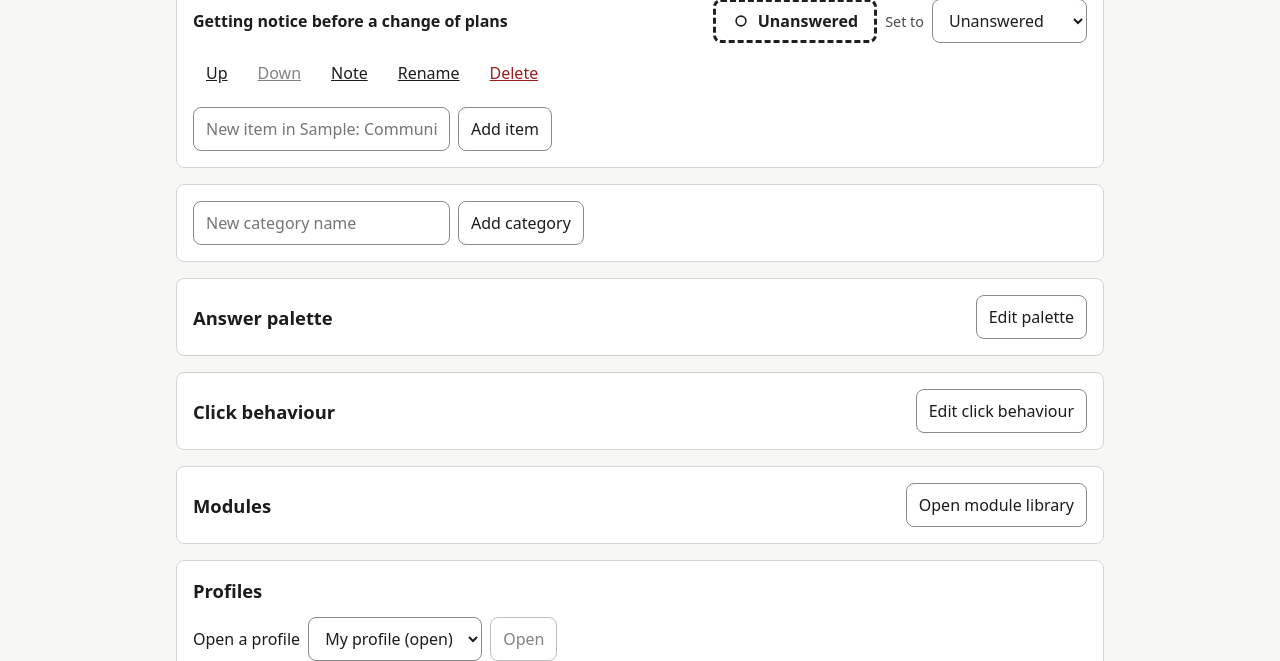
Scenario: contrast note in the state editor (M2-03) › warns in words as soon as the colours get too close, and updates as they change
The width and height of the screenshot is (1280, 661).
(page scrolled)
Click the button "Edit palette".
click(1031, 317)  # box [976,295,1087,339]
(page scrolled)
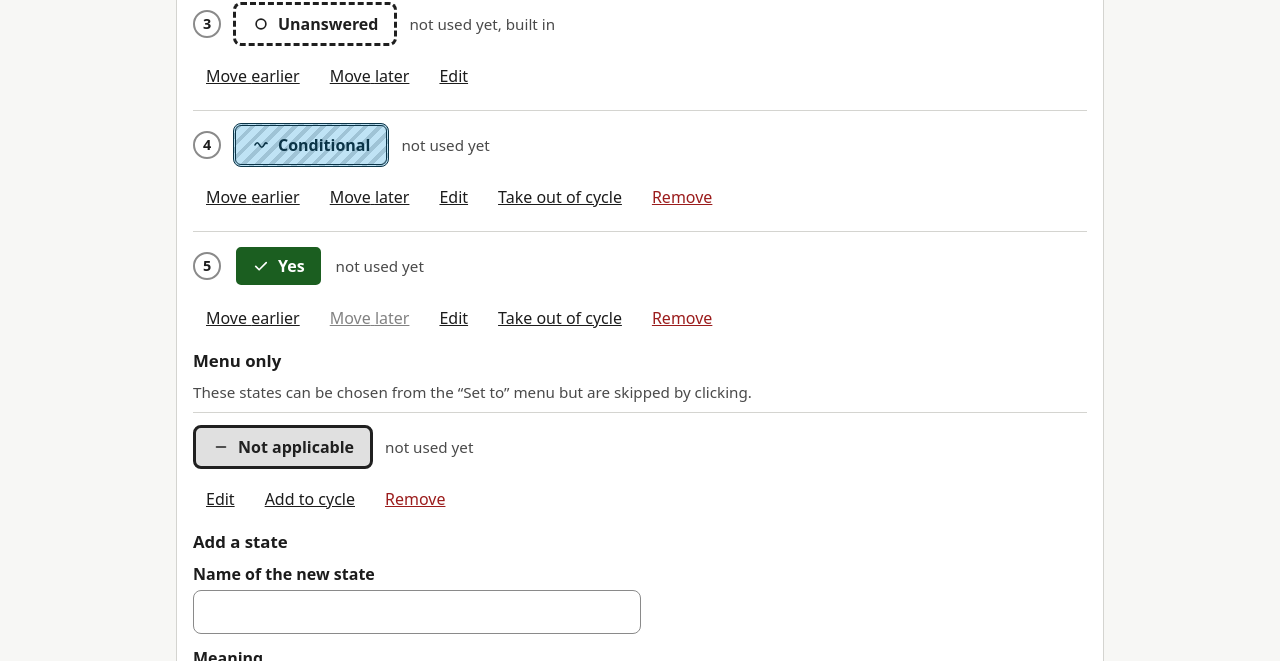
Click the button named "Edit Yes".
click(454, 318)  # box [426,296,481,340]
(page scrolled)
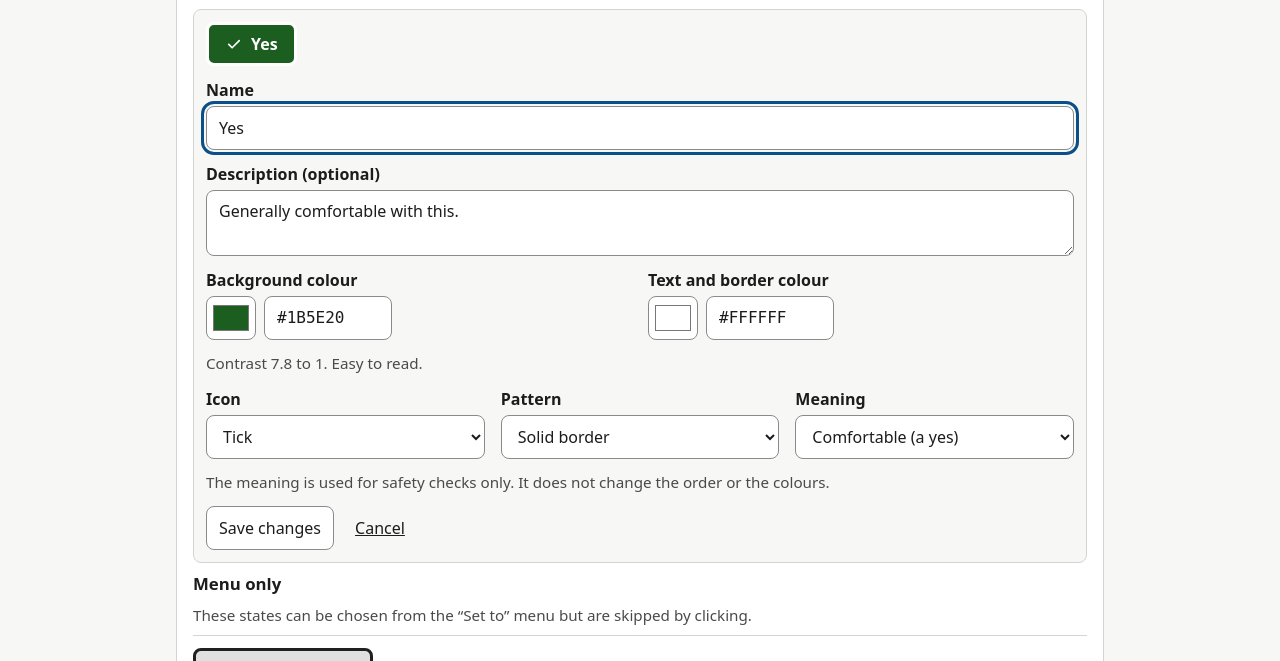
Replace the text in the field below "Text and border colour" with "#1B5E20" at [770, 318], box [706,296,834,340]
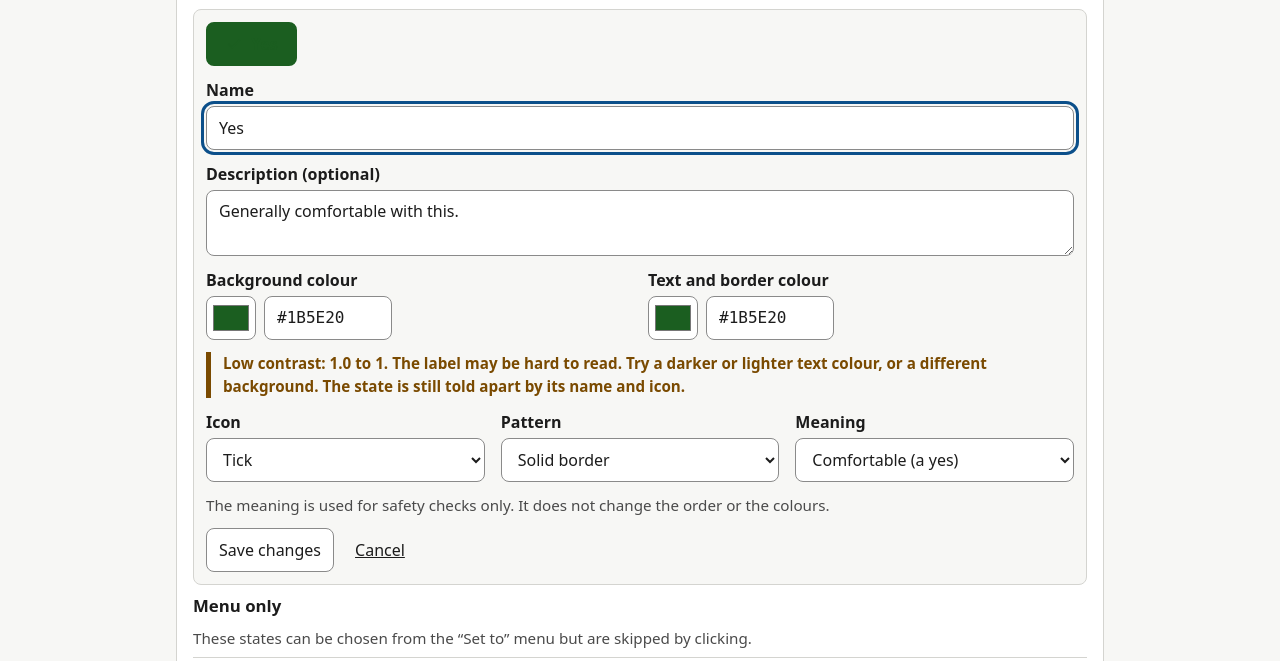
Expected: the text with class "contrast-note" shows "Low contrast: 1.0 to 1.", [223,353,987,396]
Replace the text in the field below "Text and border colour" with "#000000" at [770, 318], box [706,296,834,340]
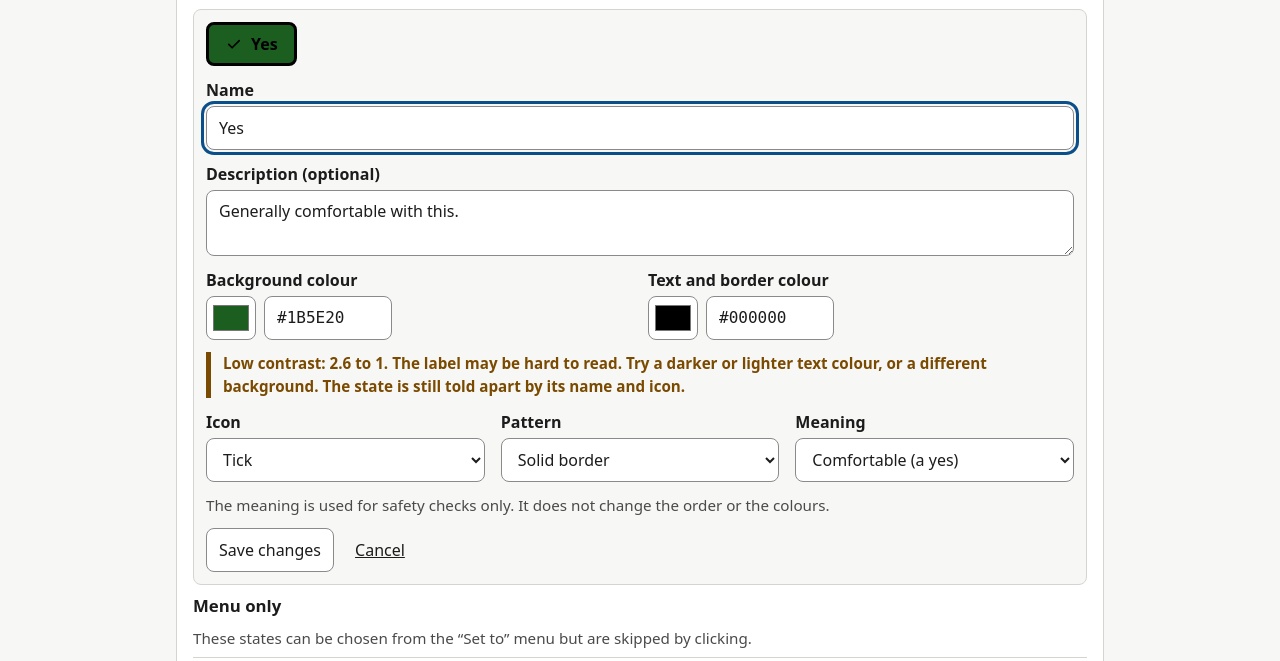
Replace the text in the field below "Background colour" with "#ffffff" at [328, 318], box [264,296,392,340]
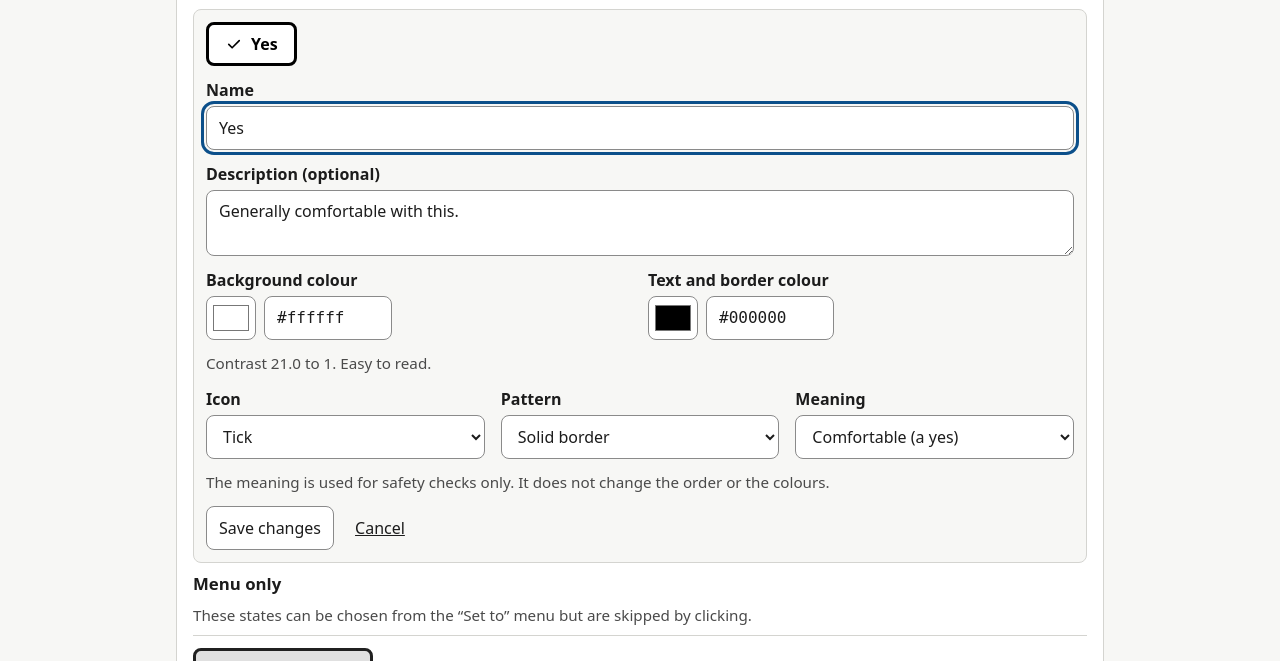
Expected: the text with class "contrast-note" shows "Easy to read", [301,353,431,373]
